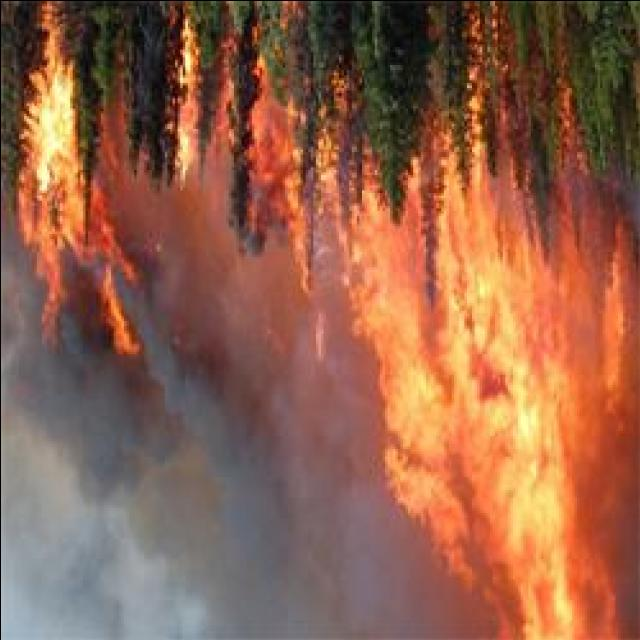fire: (472, 280, 640, 554), (396, 247, 530, 453), (19, 73, 77, 207)
smoke: (5, 473, 348, 634), (24, 360, 226, 496), (176, 263, 292, 446)
